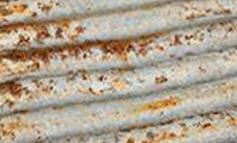rust: (13, 22, 169, 74), (4, 83, 29, 104)
